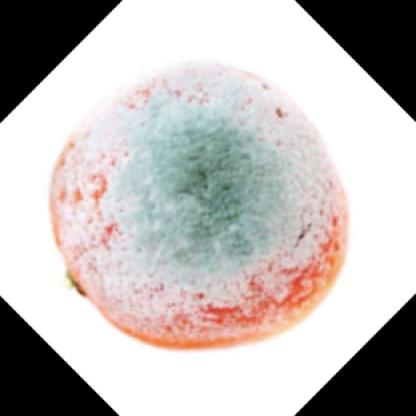rotten: (48, 62, 353, 353)
